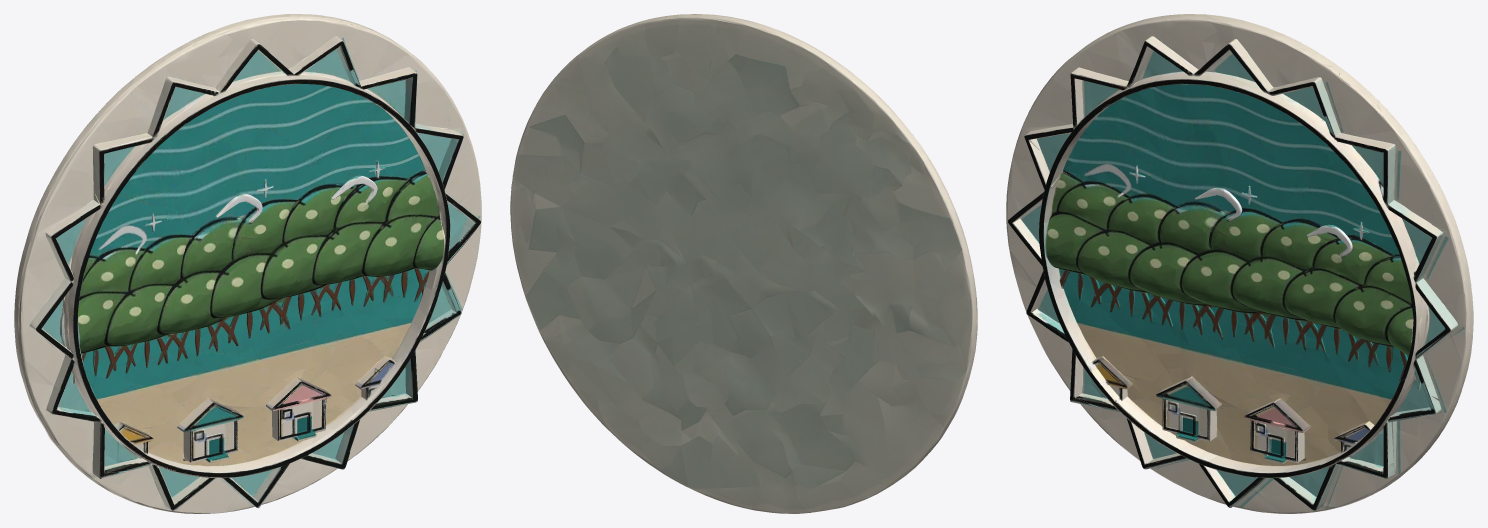
The model's file is franja.glb.
3 views of the same model, side by side, from view 1: azimuth 30°, elevation 25°; view 2: azimuth 150°, elevation 25°; view 3: azimuth 330°, elevation 25° (orthographic).
Size of the model in its own units: 1.9 by 1.9 by 0.1187.
Materials: 1 (1 with a texture image).
